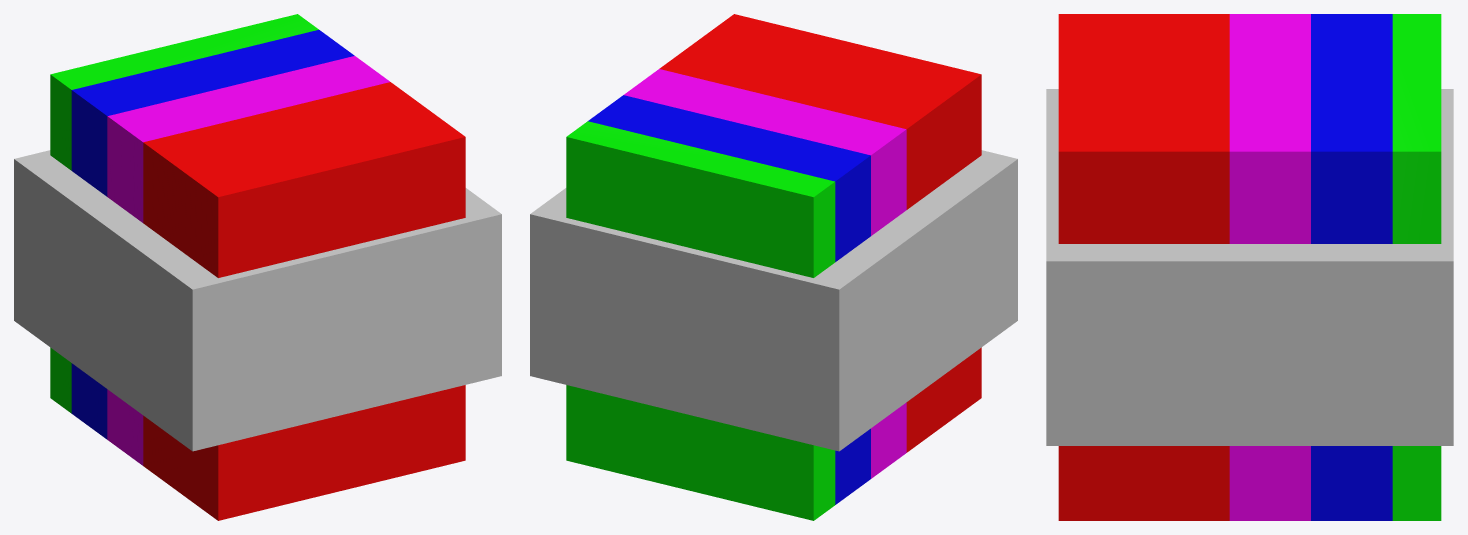
File: playermeter.dae
3 renders of one model, left to right at view 1: azimuth 30°, elevation 25°; view 2: azimuth 150°, elevation 25°; view 3: azimuth 270°, elevation 25°, orthographic. The views are drawn at different scales.
Visible parts, largest first — view 1: meter, gauge; view 2: meter, gauge; view 3: meter, gauge.
Part boxes in pixels (x1,y1,x2,y2): meter: (50,14,465,520); gauge: (14,150,501,451); meter: (566,14,981,520); gauge: (530,150,1017,451); meter: (1058,14,1441,520); gauge: (1046,89,1453,445).
Size of the model in its own units: 1 by 1 by 1.
